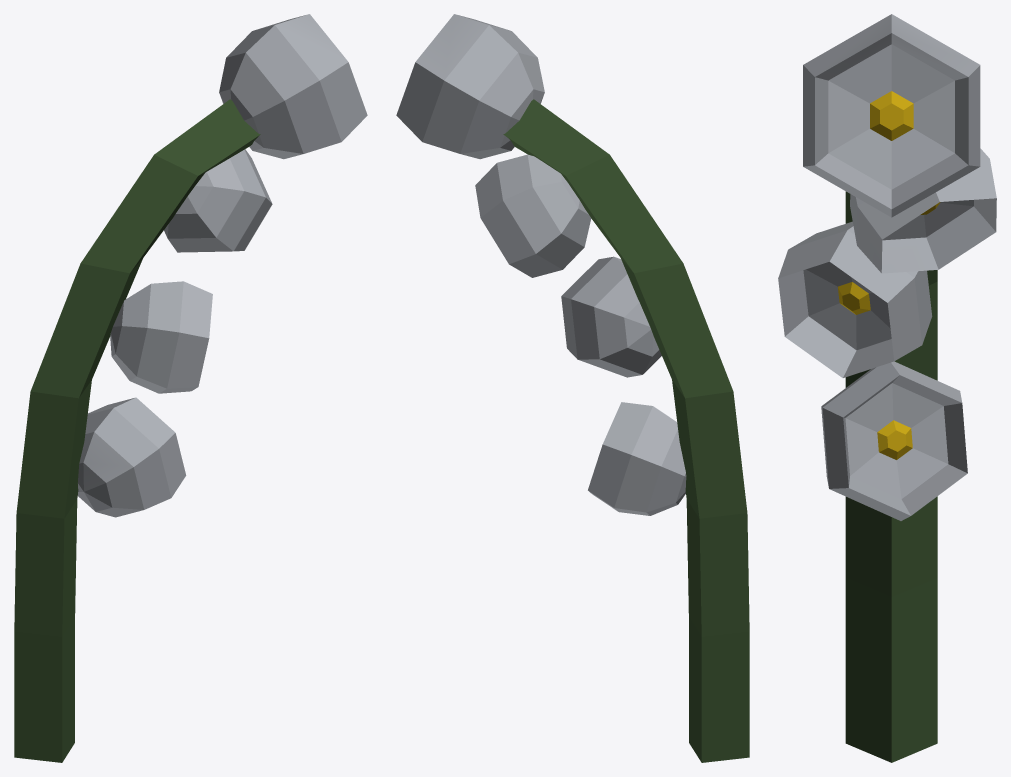
Rendered from SM_ValleyLily_Var1.fbx.
3 views of the same model, side by side, from view 1: azimuth 30°, elevation 25°; view 2: azimuth 150°, elevation 25°; view 3: azimuth 270°, elevation 25° (orthographic). The views are drawn at different scales.
Parts seen in each view (by area): view 1: SM_ValleyLily_Var1; view 2: SM_ValleyLily_Var1; view 3: SM_ValleyLily_Var1.
Part boxes in pixels (x1=…): SM_ValleyLily_Var1: x1=14, y1=14, x2=367, y2=762; SM_ValleyLily_Var1: x1=396, y1=14, x2=749, y2=762; SM_ValleyLily_Var1: x1=778, y1=14, x2=996, y2=762.
Size of the model in its own units: 10.98 by 21.11 by 4.76.
